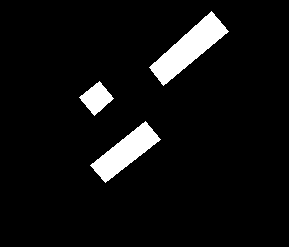parkingspot: (149, 11, 228, 85), (90, 121, 160, 182), (79, 81, 113, 115)
